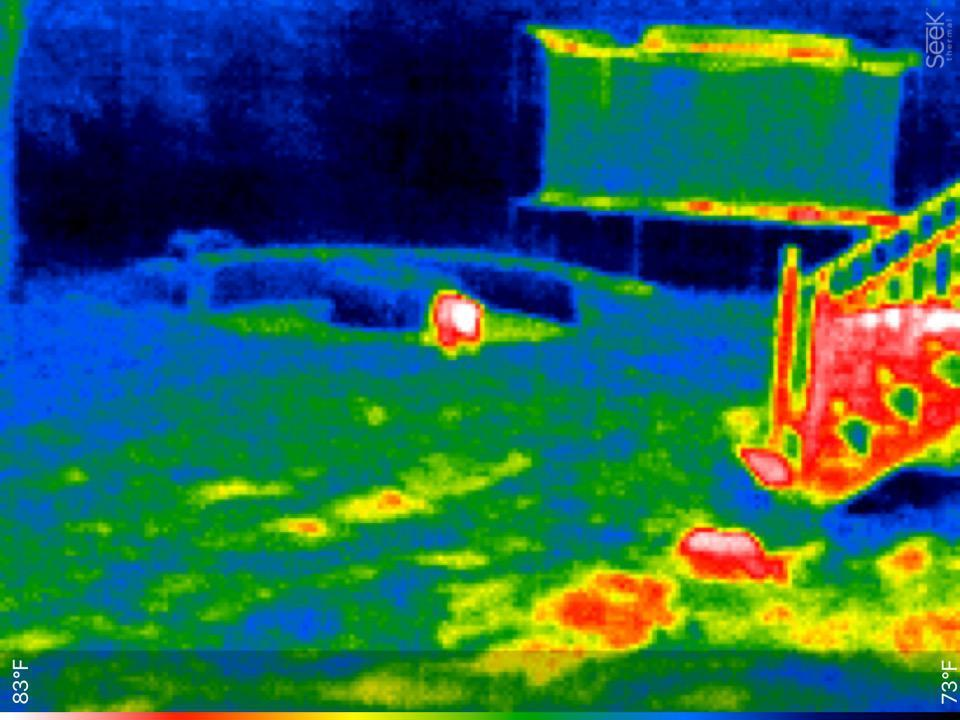dog: (414, 283, 487, 365)
